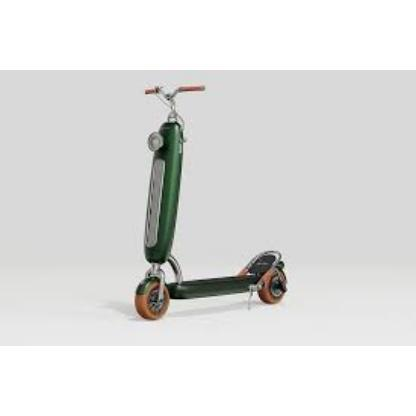bike: (130, 83, 289, 321)
